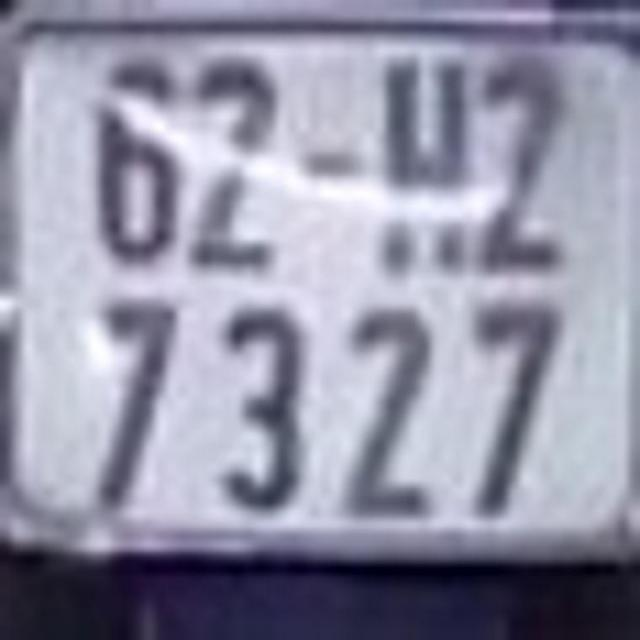2: (340, 296, 440, 522), (476, 48, 559, 274), (195, 63, 282, 274)
3: (220, 299, 300, 512)
6: (95, 61, 180, 266)
7: (464, 297, 572, 520), (90, 296, 181, 506)
H: (378, 55, 472, 276)
